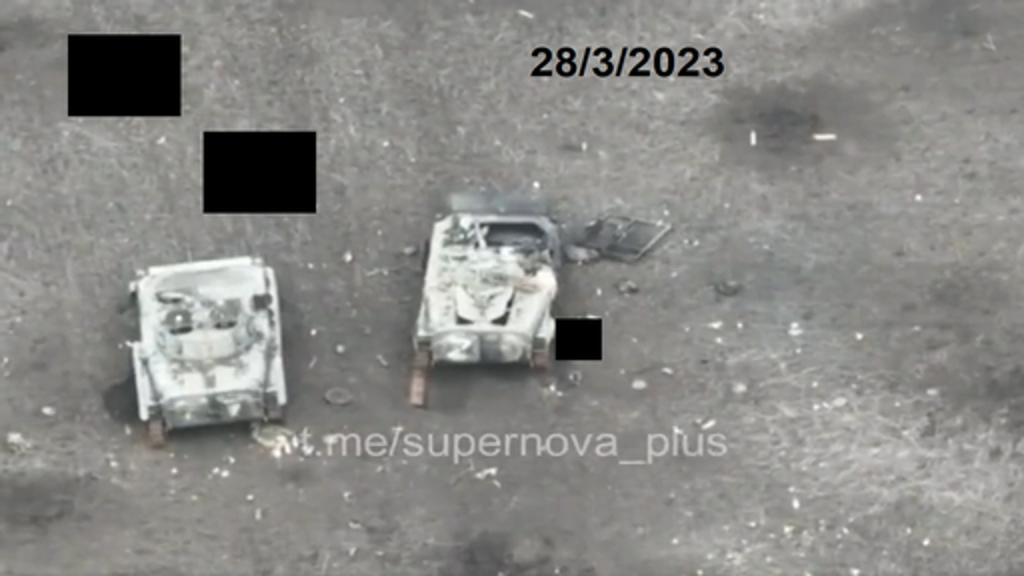APC-IFV: (114, 246, 294, 442), (398, 200, 558, 382)
